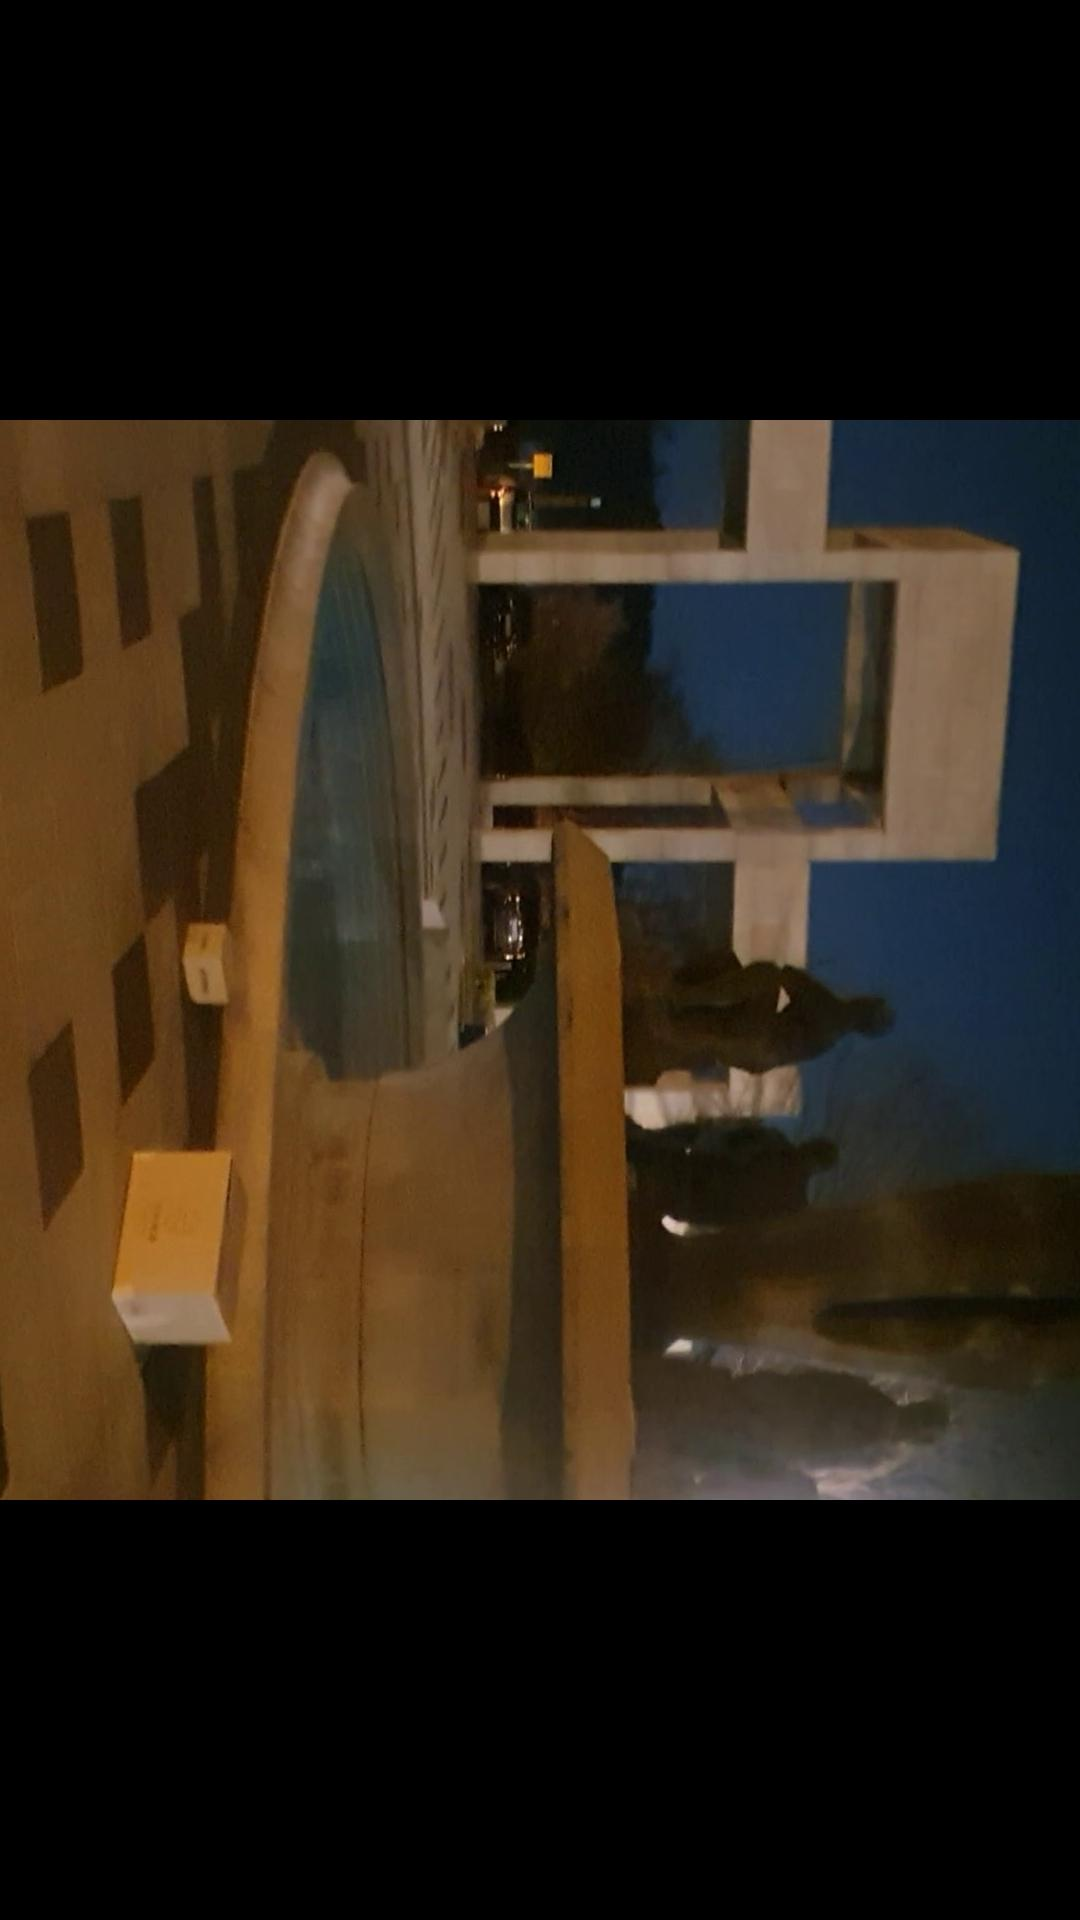Box: (107, 1153, 252, 1344), (175, 916, 245, 1000)
